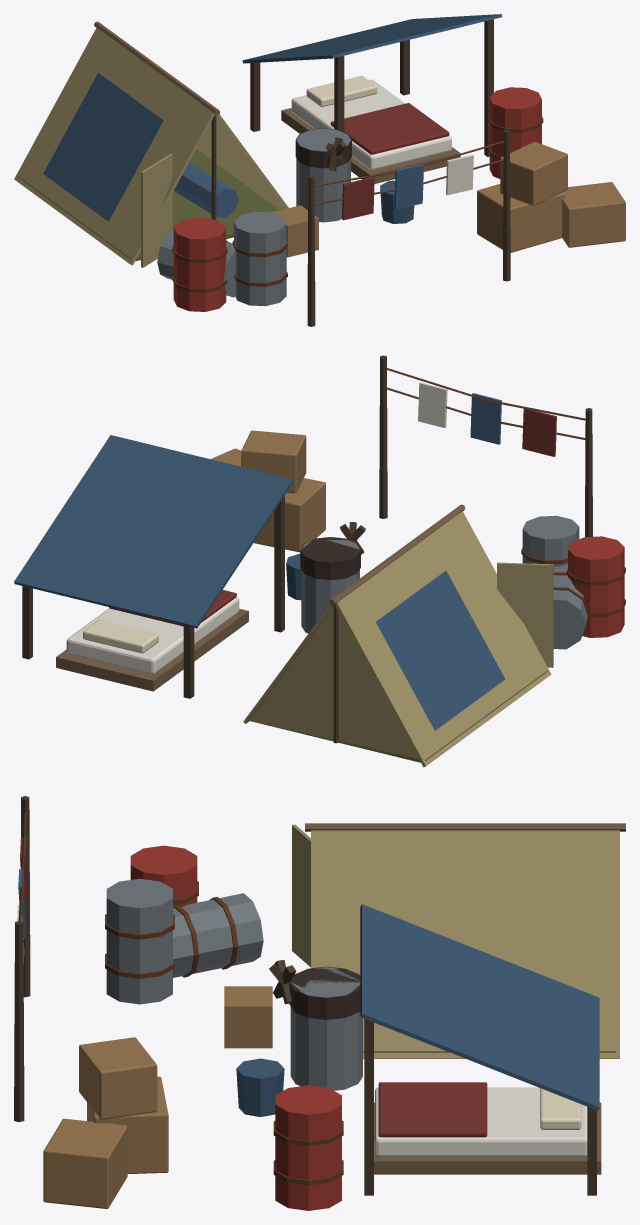
Rendered from rooftop_camp.glb.
3 renders of one model, top to bottom at view 1: azimuth 30°, elevation 25°; view 2: azimuth 150°, elevation 25°; view 3: azimuth 270°, elevation 25°, orthographic. The views are drawn at different scales.
Visible parts, largest first — view 1: rooftop_camp; view 2: rooftop_camp; view 3: rooftop_camp.
Part boxes in pixels (x1,y1,x2,y2): rooftop_camp: (14, 14, 625, 326); rooftop_camp: (14, 355, 625, 767); rooftop_camp: (14, 796, 625, 1210).
Size of what is drawn, in the model's own units: 5.31 by 1.83 by 5.07.
Materials: 3 (3 with a texture image).
